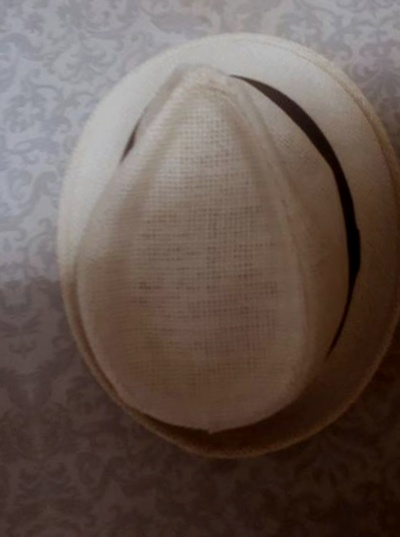Hat: (0, 0, 400, 513), (0, 43, 23, 537)
